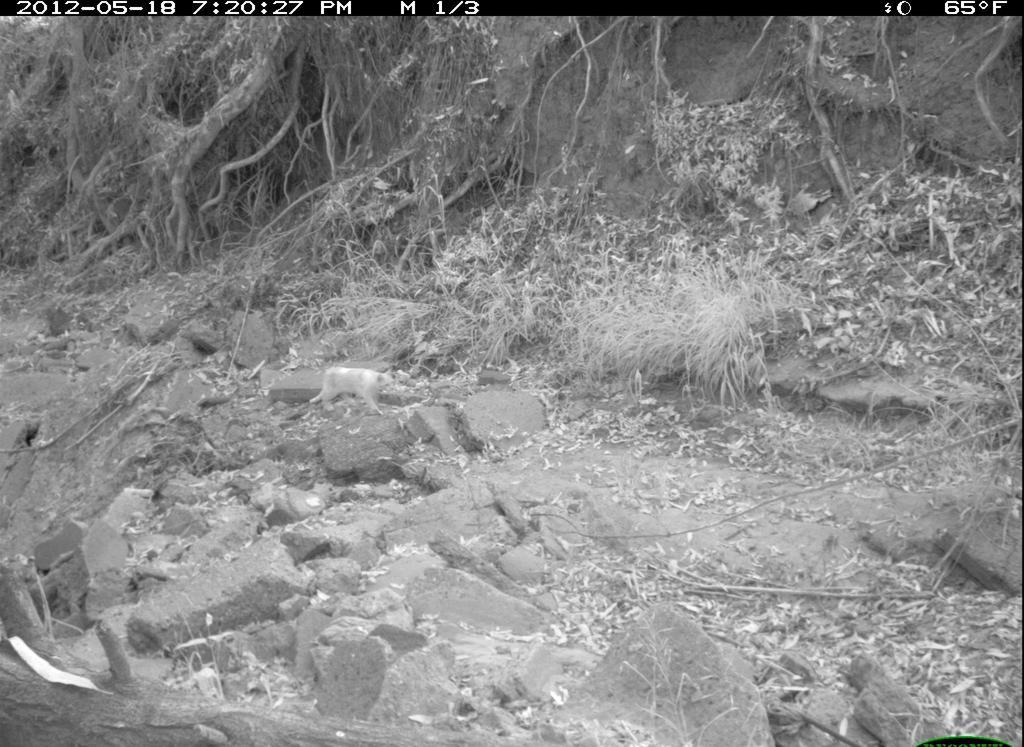cat: (304, 363, 402, 419)
